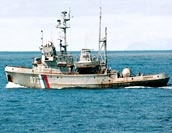otherboat: (1, 7, 172, 91)
